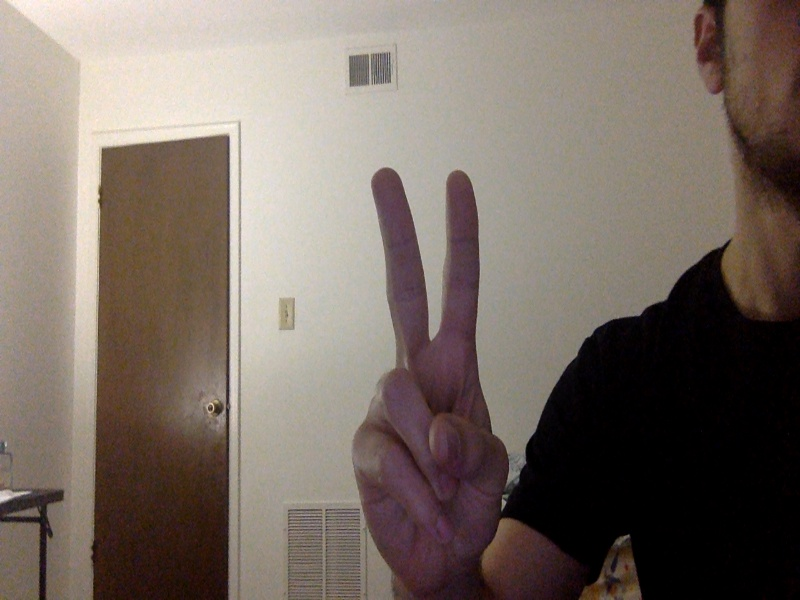2-hand: (351, 167, 508, 598)
